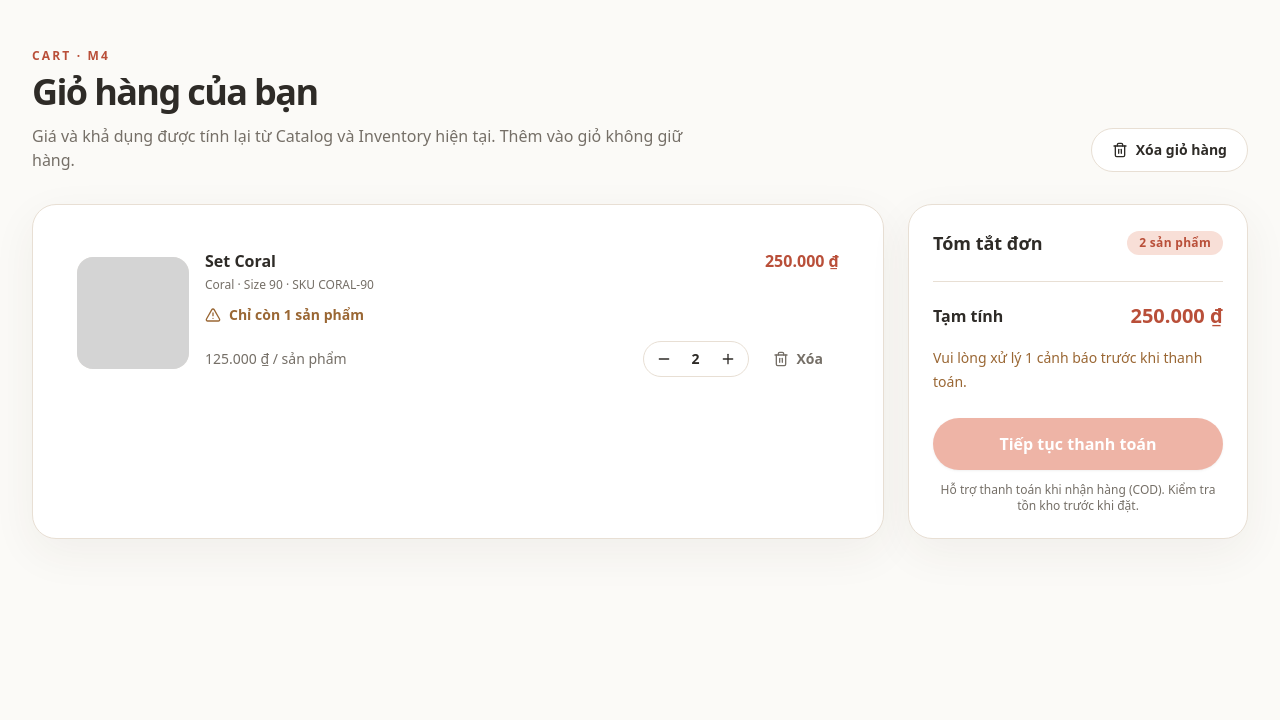
Test case: CartView › confirms before clearing all CartItems
Check: the link "Set Coral" is shown, box [205,250,276,272]
Click the button "Xóa giỏ hàng" at (1169, 150), box [1091,128,1248,172]
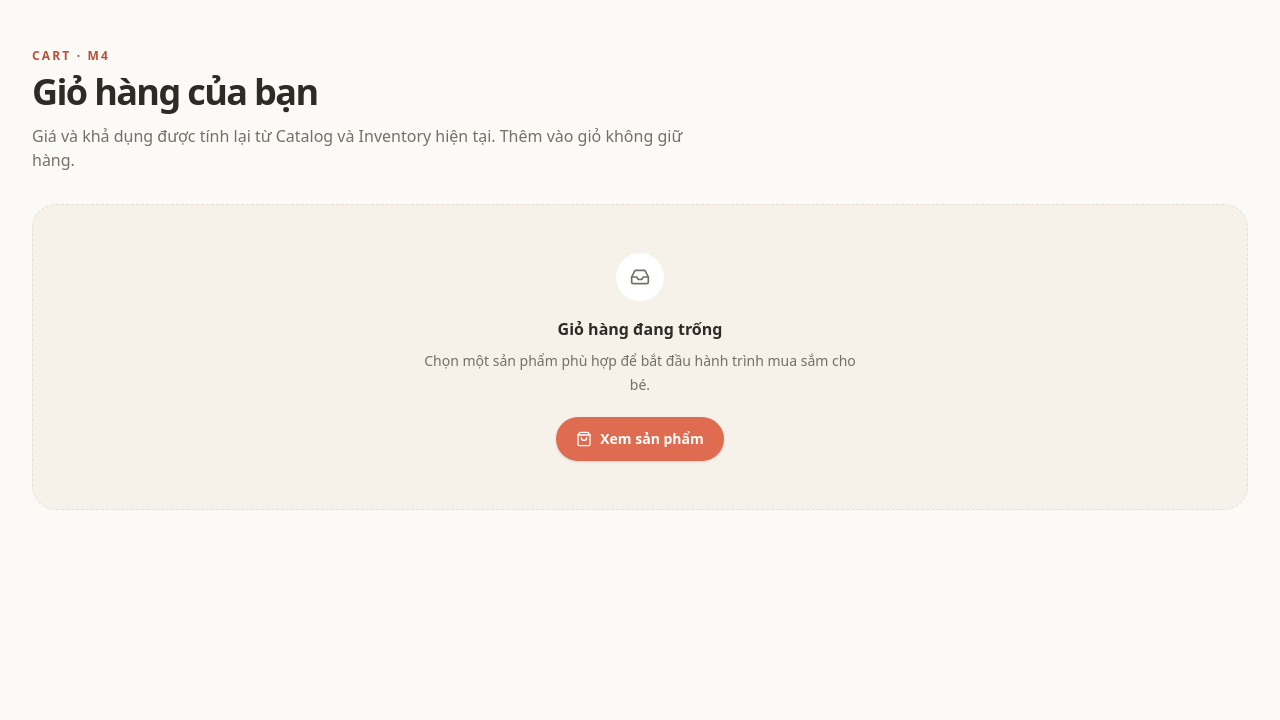
Check: the heading "Giỏ hàng đang trống" is shown, box [558,318,722,340]
